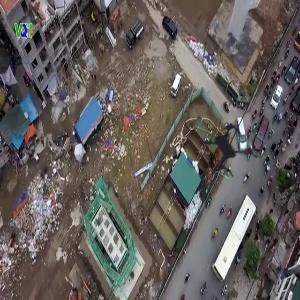drone: (170, 94, 284, 208)
